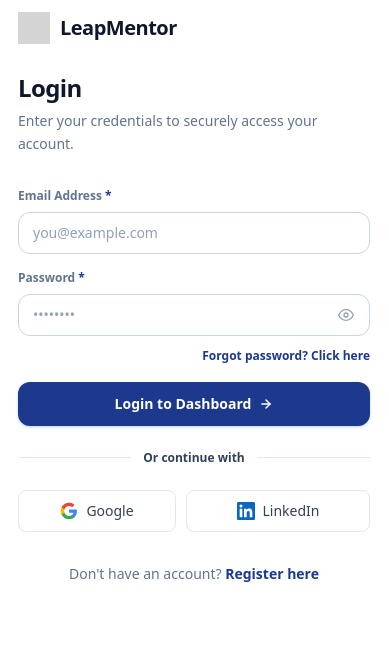
Test case: LoginForm › shows root error when login succeeds but user has no matching role
Step 1. Type "a@b.com" into the field with placeholder "you@example.com" → (194, 232), box [18,212,370,254]
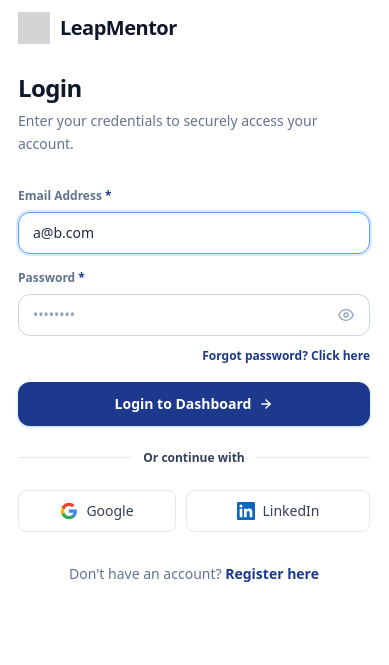
Step 2. Type "password123" into the password field with placeholder "••••••••" → (194, 314), box [18,294,370,336]
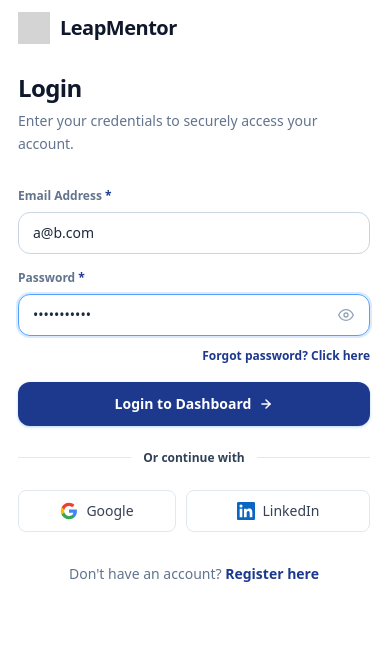
Step 3. Click the button "Login to Dashboard" → (194, 404), box [18,382,370,426]
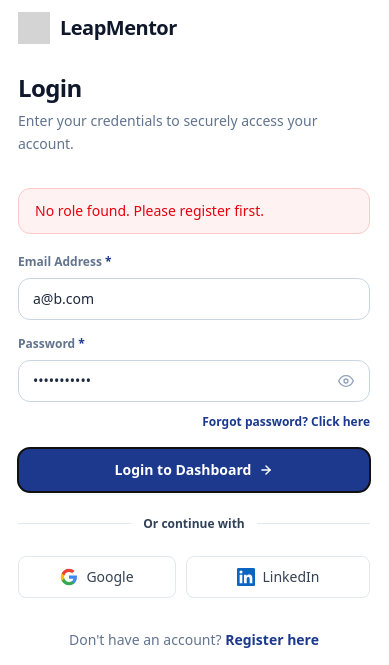
Expected: the text "No role found. Please register first." is shown, [18,188,370,234]
